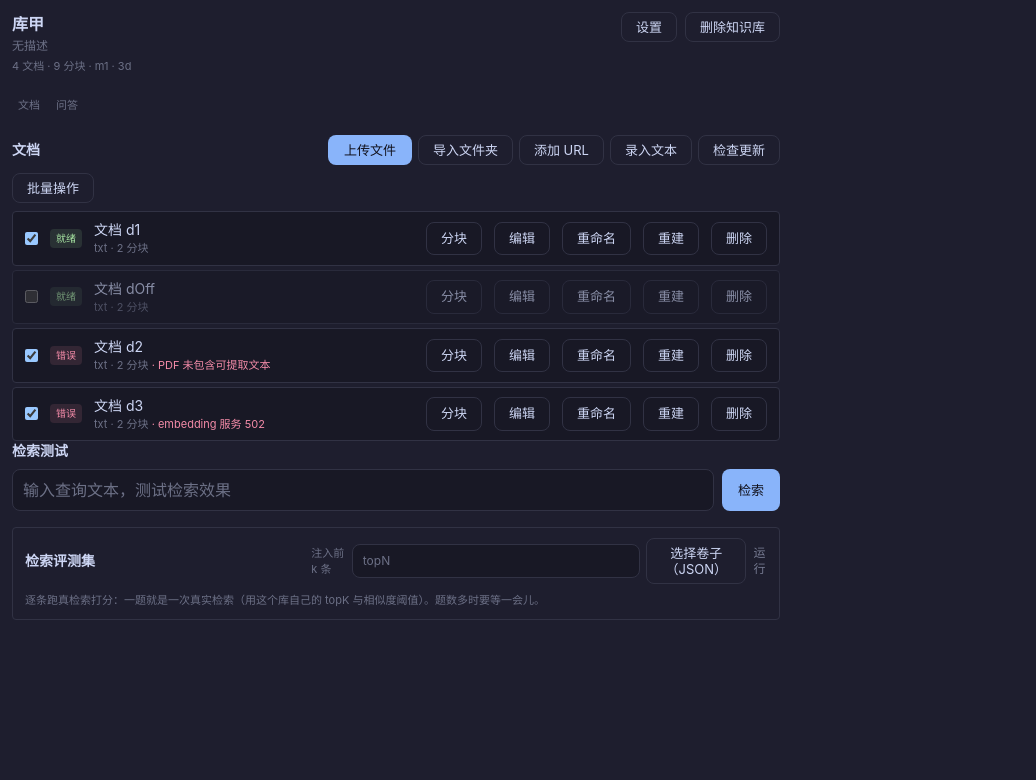
Test: safeHandle 的合同：失败是返回值，不是 reject › 批量重建通道返回 {ok:false} ⇒ 说错误，不许报"已处理 2 篇"
Check: the text "文档 d1" is shown, box 94,221 -> 140,238
Click the button "批量操作".
click(53, 188)  # box 12,173 -> 94,203
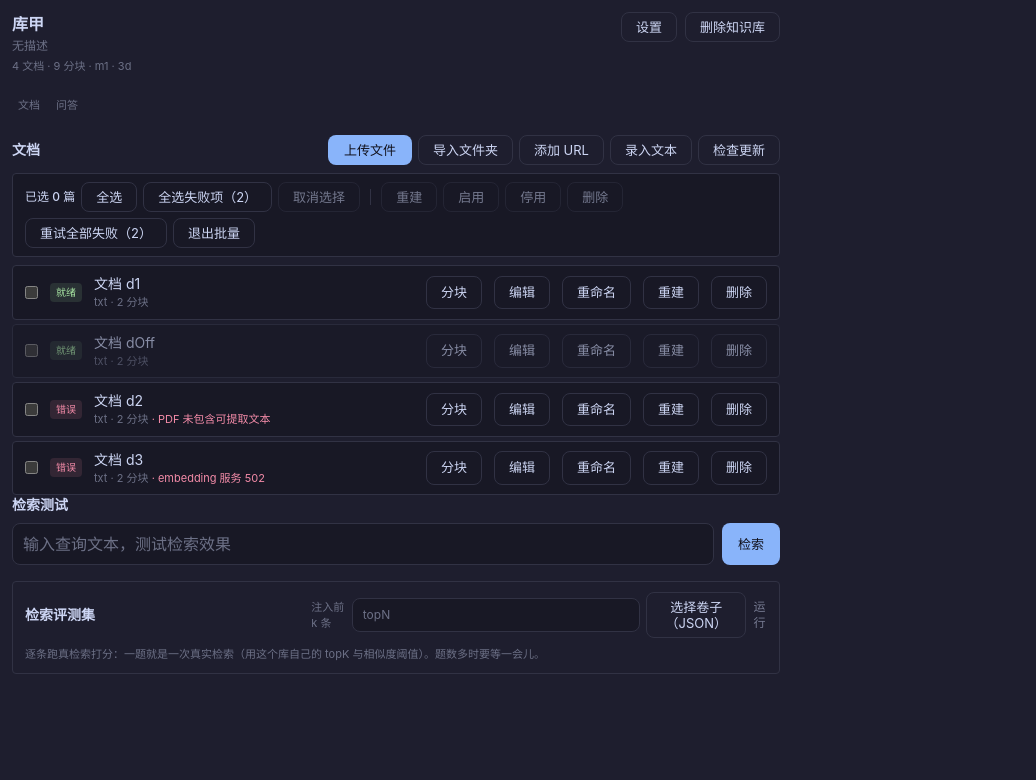
Click the button "重试全部失败（2）".
click(96, 233)  # box 25,218 -> 167,248
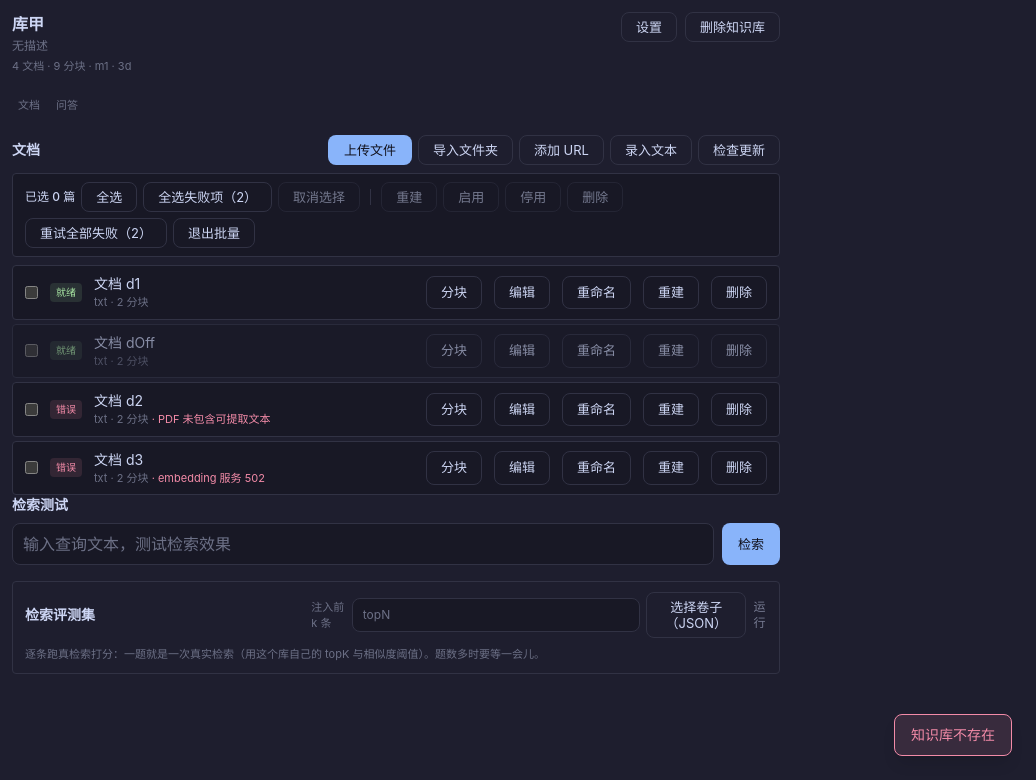
Check: the text "知识库不存在" is shown, box 894,714 -> 1012,756
